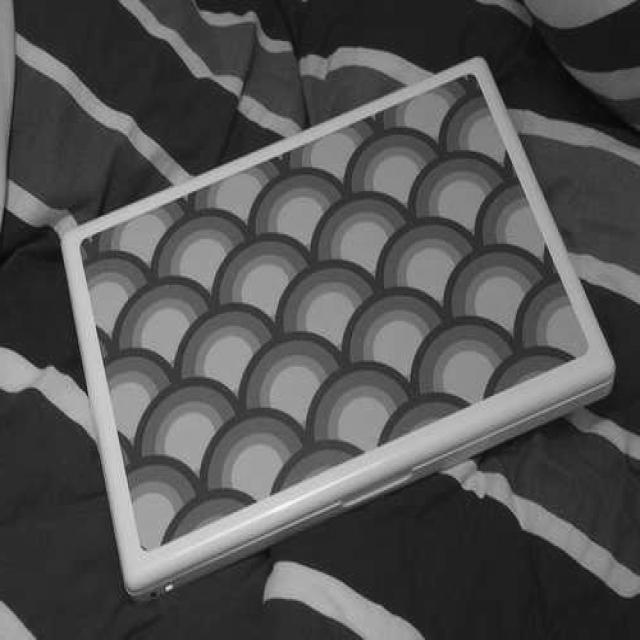laptop: (81, 70, 576, 576)
